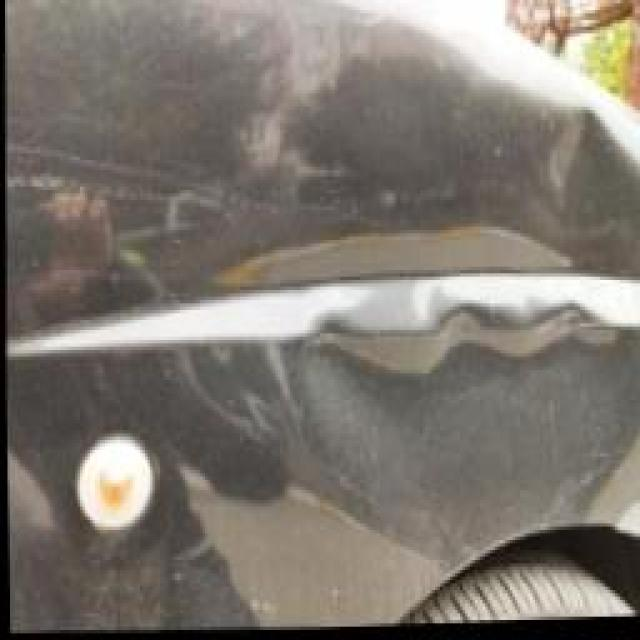Fender: (2, 153, 640, 473)
